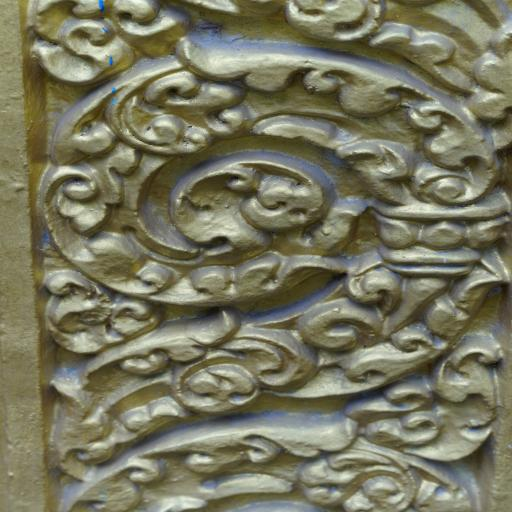la: (35, 46, 512, 448), (36, 406, 499, 512)
